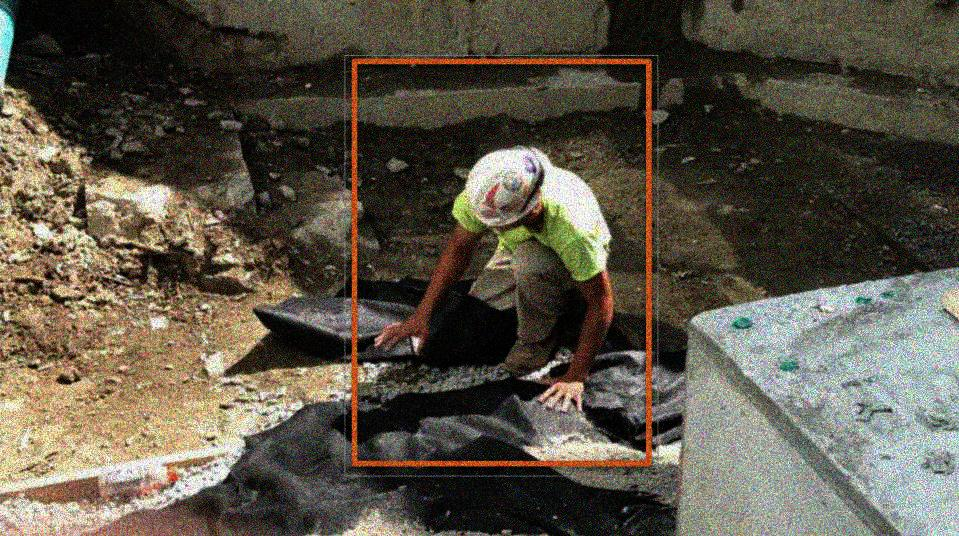helmet: (464, 142, 551, 229)
